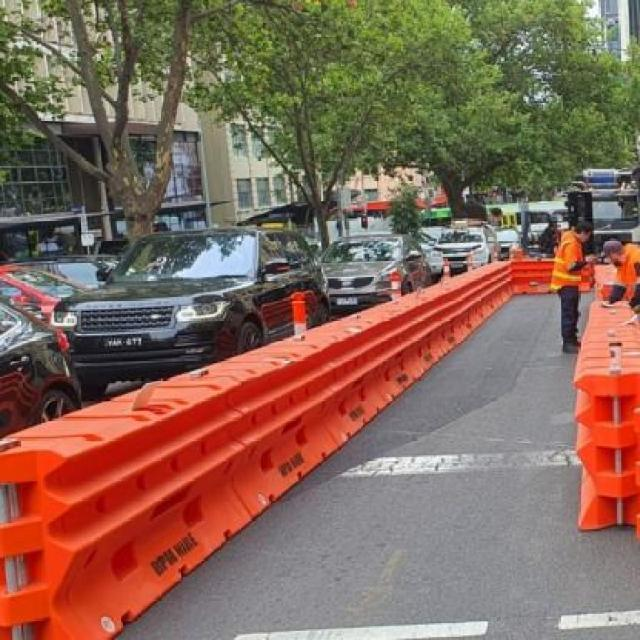fallen_object: (0, 370, 227, 625), (165, 313, 394, 491), (579, 273, 640, 555), (376, 260, 477, 389), (467, 239, 561, 324)
